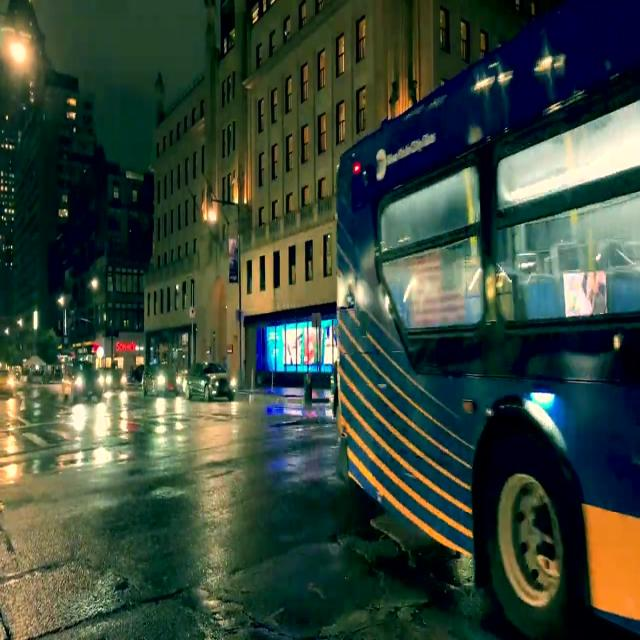Car: (186, 361, 231, 401)
